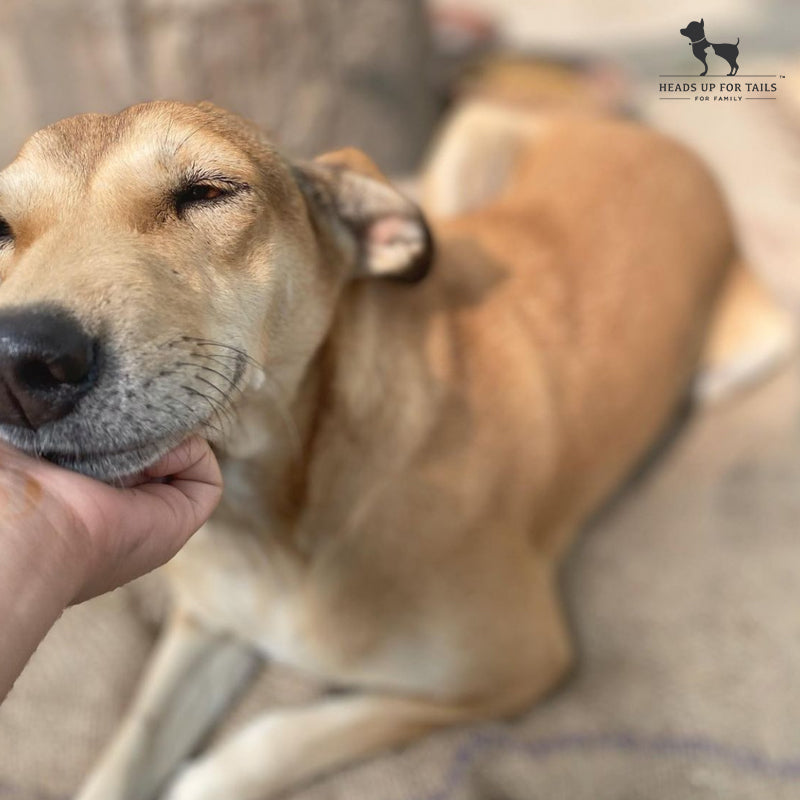Dog: (9, 61, 718, 760)
